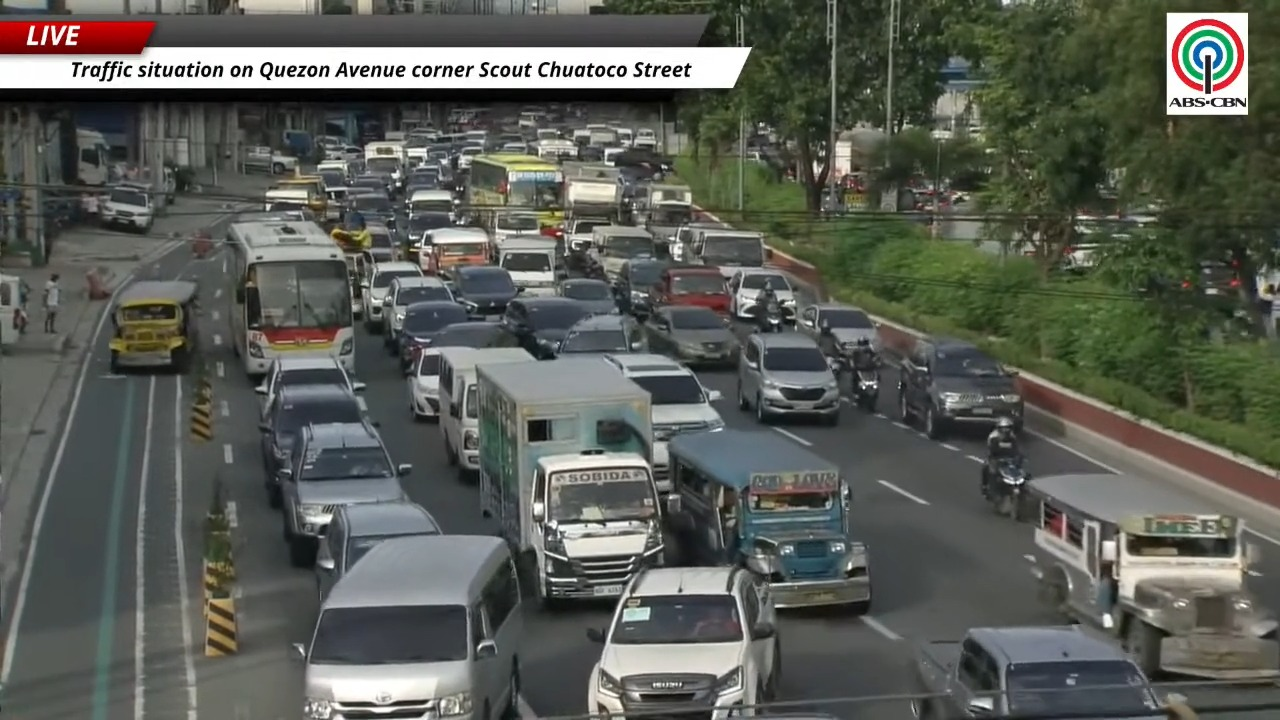bus: (227, 221, 354, 377), (466, 154, 564, 226)
car: (587, 566, 781, 717), (280, 422, 411, 567), (605, 353, 724, 494), (259, 385, 366, 508), (898, 336, 1023, 439), (315, 502, 441, 602), (737, 332, 839, 425), (255, 356, 365, 415), (644, 305, 739, 365), (382, 275, 453, 351), (500, 297, 587, 359), (395, 301, 467, 370), (361, 260, 423, 331), (650, 265, 730, 315), (797, 303, 877, 351), (451, 266, 520, 320), (557, 314, 646, 355), (728, 268, 795, 319), (613, 259, 669, 315), (99, 183, 154, 233), (405, 346, 440, 419), (404, 212, 453, 262), (555, 278, 617, 314), (431, 320, 504, 347), (241, 147, 297, 174), (350, 194, 395, 226), (365, 218, 399, 258), (348, 174, 388, 198)
motorcycle: (982, 458, 1028, 520), (851, 371, 879, 411), (758, 303, 784, 332)
truck: (476, 358, 664, 604), (910, 626, 1165, 719), (686, 227, 767, 279), (563, 174, 617, 252), (497, 235, 558, 296), (634, 183, 693, 243), (565, 176, 617, 216)
